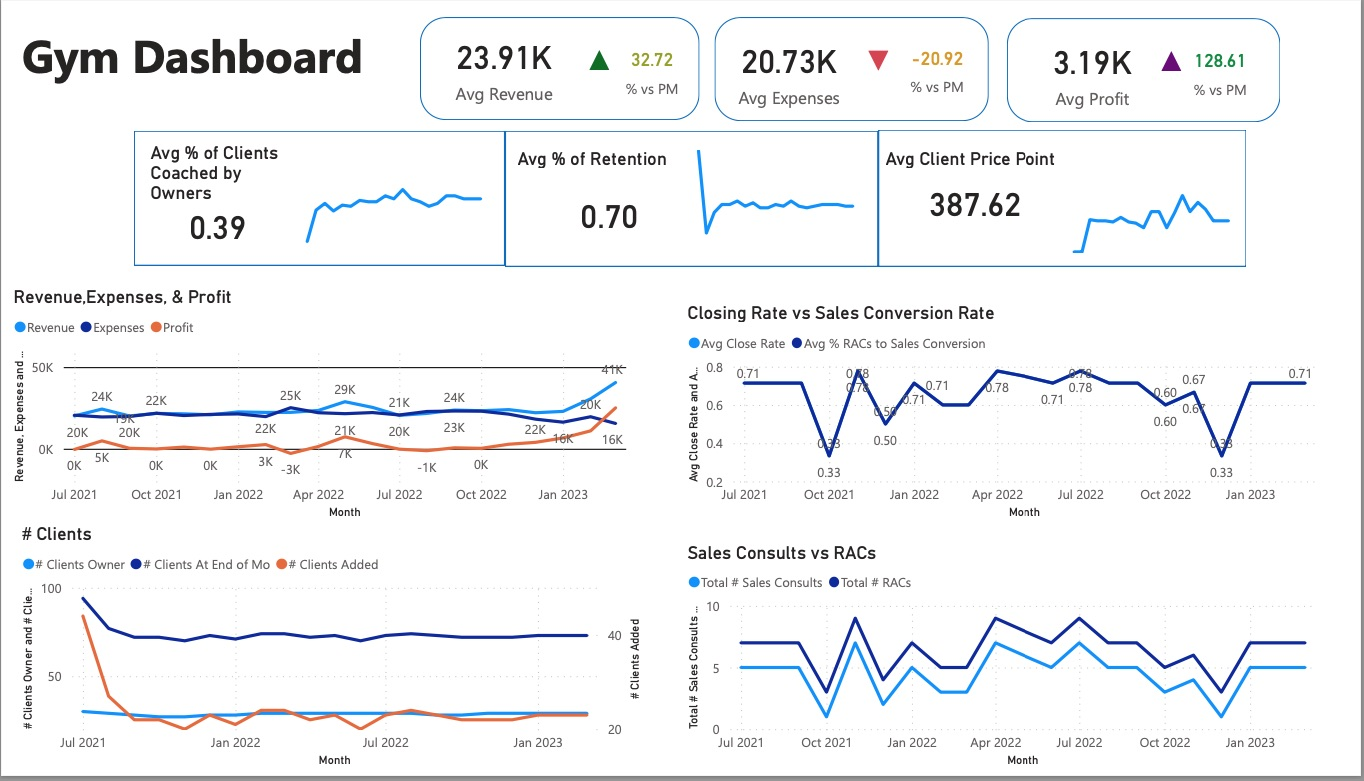

Layout of this report page (visuals, bound fields, positions):
{"tool":"powerbi","page":{"name":"Page 1","canvas":[1280,720],"ordinal":0},"visuals":[{"type":"shape","box":[945.9,12.1,257.7,98],"z":0},{"type":"shape","box":[394.1,11.1,262.7,97],"z":1000},{"type":"shape","box":[671,11.1,257.7,98],"z":2000},{"type":"shape","box":[824.6,117.2,346.6,129.3],"z":3000},{"type":"shape","box":[473.9,118.2,350.7,128.3],"z":4000},{"type":"shape","box":[125.3,118.2,348.6,127.3],"z":5000},{"type":"card","fields":{"Values":["Avg(Sheet3.Expenses)"]},"box":[683.1,19.2,117.2,83.9],"z":6000},{"type":"card","fields":{"Values":["Avg(Sheet3.Revenue)"]},"box":[408.3,17.2,131.4,80.8],"z":7000},{"type":"card","fields":{"Values":["Avg(Sheet3.Profit)"]},"box":[961,20.2,133.4,83.9],"z":8000},{"type":"card","title":"Avg Client Price Point","fields":{"Values":["Avg(Sheet3.Average ClientPrice Point)"]},"box":[826.6,134.4,178.9,83.9],"z":9000},{"type":"card","title":"Avg % of Retention","fields":{"Values":["Avg(Sheet3.Retention %)"]},"box":[481,134.4,182.9,106.1],"z":10000},{"type":"lineChart","fields":{"Category":["Sheet3.Month.Variation.Date Hierarchy.Year"],"Y":["Avg(Sheet3.Retention %)"]},"box":[640.7,123.3,174.8,119.2],"z":11000},{"type":"card","title":"Avg % of Clients Coached by Owners","fields":{"Values":["Avg(Sheet3.% of Clients Coached By Owner)"]},"box":[136.4,128.3,136.4,100],"z":12000},{"type":"lineChart","fields":{"Y":["Sum(Sheet3.% of Clients Coached By Owner)"],"Category":["Sheet3.Month.Variation.Date Hierarchy.Year"]},"box":[273.1,140.6,193.1,97.1],"z":13000},{"type":"textbox","box":[15.2,12.1,363.8,90.9],"z":14000},{"type":"lineChart","title":"Revenue,Expenses, & Profit","fields":{"Category":["Sheet3.Month.Variation.Date Hierarchy.Year"],"Y":["Sum(Sheet3.Revenue)","Sum(Sheet3.Expenses)","Sum(Sheet3.Profit)"]},"box":[6.7,264,600,222.7],"z":15000},{"type":"lineChart","title":"# Clients ","fields":{"Category":["Sheet3.Month.Variation.Date Hierarchy.Year"],"Y2":["Sum(Sheet3.ClientsAdded this Mo)"],"Y":["Sum(Sheet3.ClientsOwner)","Sum(Sheet3.ClientsAt End of Mo)"]},"box":[14.5,486.7,591.6,233.3],"z":16000},{"type":"lineChart","title":"Closing Rate vs Sales Conversion Rate","fields":{"Y":["Avg(Sheet3.Close Rate)","Avg(Sheet3.RACs to SalesConversion)"],"Category":["Sheet3.Month.Variation.Date Hierarchy.Year"]},"box":[640.7,279.1,615.1,207.6],"z":17000},{"type":"lineChart","title":"Sales Consults vs RACs","fields":{"Y":["Sum(Sheet3.Sales Consults)","Sum(Sheet3.RACs)"],"Category":["Sheet3.Month.Variation.Date Hierarchy.Year"]},"box":[641.1,504,614.9,216],"z":18000},{"type":"lineChart","fields":{"Y":["Avg(Sheet3.Average ClientPrice Point)"],"Category":["Sheet3.Month.Variation.Date Hierarchy.Year"]},"box":[995.4,152.6,174.8,84.9],"z":19000},{"type":"card","fields":{"Values":["Sheet3.change%_revenue"]},"box":[572,31.3,80.8,58.6],"z":20000},{"type":"card","fields":{"Values":["Sheet3.KPI_revenue"]},"box":[543.7,29.3,38.4,45.5],"z":21000},{"type":"card","fields":{"Values":["Sheet3.change%_expense"]},"box":[849.9,28.3,60.6,61.6],"z":22000},{"type":"card","fields":{"Values":["Sheet3.KPI_expense"]},"box":[802.4,35.4,47.5,33.3],"z":23000},{"type":"card","fields":{"Values":["Sheet3.change%_profit"]},"box":[1113.6,31.3,66.7,60.6],"z":24000},{"type":"card","fields":{"Values":["Sheet3.KPI_profit"]},"box":[1083.3,35.4,37.4,35.4],"z":25000}]}

Visuals, with their boxes in screenshot pixels (x1, y1, x2, y2), scaled from the page's 1280x720 canvas onto the 1364x781 screenshot:
shape: bbox(1008, 13, 1283, 119)
shape: bbox(420, 12, 700, 117)
shape: bbox(715, 12, 990, 118)
shape: bbox(879, 127, 1248, 267)
shape: bbox(505, 128, 879, 267)
shape: bbox(134, 128, 505, 266)
card - Avg(Sheet3.Expenses): bbox(728, 21, 853, 112)
card - Avg(Sheet3.Revenue): bbox(435, 19, 575, 106)
card - Avg(Sheet3.Profit): bbox(1024, 22, 1166, 113)
"Avg Client Price Point" card: bbox(881, 146, 1071, 237)
"Avg % of Retention" card: bbox(513, 146, 707, 261)
lineChart - Sheet3.Month.Variation.Date Hierarchy.Year x Avg(Sheet3.Retention %): bbox(683, 134, 869, 263)
"Avg % of Clients Coached by Owners" card: bbox(145, 139, 291, 248)
lineChart - Sum(Sheet3.% of Clients Coached By Owner) x Sheet3.Month.Variation.Date Hierarchy.Year: bbox(291, 153, 497, 258)
textbox: bbox(16, 13, 404, 112)
"Revenue,Expenses, & Profit" lineChart: bbox(7, 286, 647, 528)
"# Clients " lineChart: bbox(15, 528, 646, 780)
"Closing Rate vs Sales Conversion Rate" lineChart: bbox(683, 303, 1338, 528)
"Sales Consults vs RACs" lineChart: bbox(683, 547, 1338, 780)
lineChart - Avg(Sheet3.Average ClientPrice Point) x Sheet3.Month.Variation.Date Hierarchy.Year: bbox(1061, 166, 1247, 258)
card - Sheet3.change%_revenue: bbox(610, 34, 696, 98)
card - Sheet3.KPI_revenue: bbox(579, 32, 620, 81)
card - Sheet3.change%_expense: bbox(906, 31, 970, 98)
card - Sheet3.KPI_expense: bbox(855, 38, 906, 75)
card - Sheet3.change%_profit: bbox(1187, 34, 1258, 100)
card - Sheet3.KPI_profit: bbox(1154, 38, 1194, 77)
